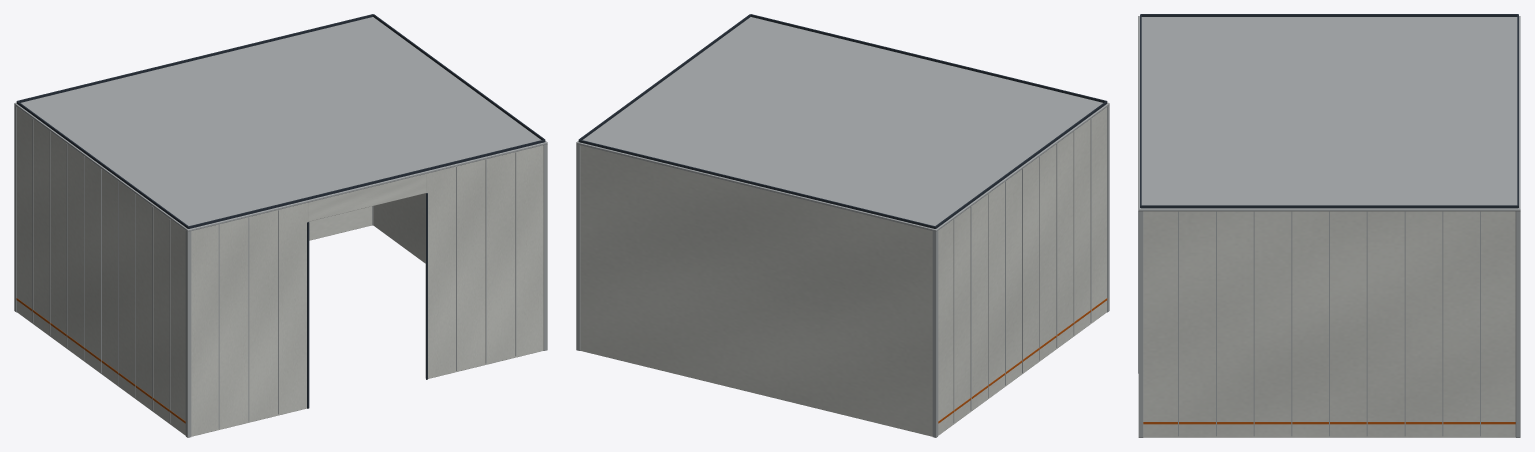
File: assembly_building.glb
3 renders of one model, left to right at view 1: azimuth 30°, elevation 25°; view 2: azimuth 150°, elevation 25°; view 3: azimuth 270°, elevation 25°, orthographic. The views are drawn at different scales.
Parts seen in each view (by area): view 1: Roof, Side_Wall, Front_Wall.001, Front_Wall, Side_Wall.001, Door_Header, Corner_Pier, Roof_Parapet.002, Roof_Parapet.003, Back_Wall, Corner_Pier.002, Roof_Parapet (+3 smaller); view 2: Back_Wall, Roof, Side_Wall, Corner_Pier.001, Roof_Parapet.003, Roof_Parapet.002, Corner_Pier.003, Roof_Parapet, Roof_Parapet.001, Corner_Pier; view 3: Side_Wall.001, Roof, Roof_Parapet.001, Corner_Pier.002, Corner_Pier.003, Roof_Parapet, Side_IdentityStripe.001, Facade_Column.011, Facade_Column.012, Facade_Column.014, Facade_Column.015, Facade_Column.016 (+2 smaller).
Part boxes in pixels (<box>): Roof: <box>14,17,547,231</box>; Side_Wall: <box>17,107,185,435</box>; Front_Wall.001: <box>425,145,543,378</box>; Front_Wall: <box>191,203,307,436</box>; Side_Wall.001: <box>373,193,425,263</box>; Door_Header: <box>308,174,426,221</box>; Corner_Pier: <box>185,231,191,437</box>; Roof_Parapet.002: <box>188,139,545,228</box>; Roof_Parapet.003: <box>17,14,373,102</box>; Back_Wall: <box>309,206,372,240</box>; Corner_Pier.002: <box>543,144,547,350</box>; Roof_Parapet: <box>16,101,188,228</box>; Back_Wall: <box>580,145,932,436</box>; Roof: <box>576,17,1109,231</box>; Side_Wall: <box>938,107,1106,435</box>; Corner_Pier.001: <box>932,231,938,437</box>; Roof_Parapet.003: <box>578,139,935,228</box>; Roof_Parapet.002: <box>750,14,1106,102</box>; Corner_Pier.003: <box>576,144,580,350</box>; Roof_Parapet: <box>935,101,1107,228</box>; Roof_Parapet.001: <box>578,14,750,139</box>; Corner_Pier: <box>1107,105,1109,312</box>; Side_Wall.001: <box>1143,211,1515,437</box>; Roof: <box>1138,16,1520,211</box>; Roof_Parapet.001: <box>1141,205,1518,208</box>; Corner_Pier.002: <box>1138,211,1143,437</box>; Corner_Pier.003: <box>1515,211,1520,437</box>; Roof_Parapet: <box>1141,14,1518,16</box>; Side_IdentityStripe.001: <box>1143,422,1515,424</box>; Facade_Column.011: <box>1253,211,1254,436</box>; Facade_Column.012: <box>1291,211,1292,436</box>; Facade_Column.014: <box>1366,211,1367,436</box>; Facade_Column.015: <box>1404,211,1405,436</box>; Facade_Column.016: <box>1442,211,1443,436</box>.
Size of the model in its own units: 36.4 by 20.31 by 30.41.
4 materials, 2 textured.
